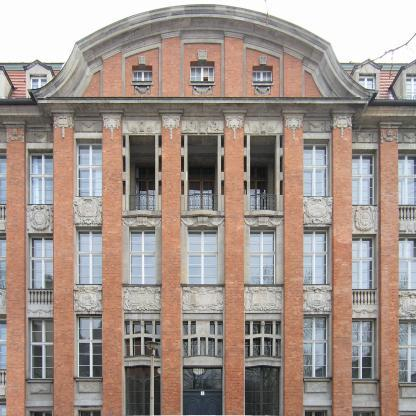Building Outline: (0, 3, 416, 416)
Deco: (181, 194, 225, 218), (182, 287, 224, 311), (122, 194, 162, 218), (244, 194, 284, 218), (244, 287, 282, 311), (123, 287, 161, 311), (73, 197, 103, 225), (303, 197, 333, 225), (74, 284, 103, 312), (303, 286, 332, 312), (352, 205, 379, 232), (26, 205, 53, 231), (398, 290, 416, 318), (192, 86, 212, 95), (254, 86, 271, 95), (134, 85, 150, 94)
Door: (187, 136, 218, 212), (250, 136, 276, 212), (129, 136, 155, 212), (183, 391, 222, 416)
Facade: (1, 102, 415, 415)
Floor: (0, 114, 416, 223), (0, 223, 416, 313)
Floor Slab: (0, 309, 416, 314), (0, 218, 416, 223), (0, 110, 416, 115)
Ground Floor: (0, 314, 416, 416)
Pillar: (329, 110, 356, 416), (99, 109, 124, 416), (377, 121, 403, 416), (158, 109, 183, 415), (222, 109, 247, 415), (282, 110, 307, 416), (51, 110, 75, 416), (2, 121, 25, 416)
Roof: (1, 4, 416, 102)
Sill: (73, 377, 103, 382), (303, 377, 333, 382), (352, 379, 380, 384), (189, 81, 216, 86), (25, 379, 54, 383), (252, 81, 274, 86), (131, 81, 154, 85), (399, 383, 416, 387)
Top Floor: (0, 63, 416, 115)
Window: (124, 365, 161, 416), (245, 365, 281, 416), (187, 227, 218, 284), (76, 314, 102, 377), (304, 314, 330, 377), (303, 226, 330, 284), (303, 139, 330, 196), (28, 318, 53, 379), (352, 318, 377, 379), (76, 139, 102, 197), (129, 226, 155, 284), (76, 227, 102, 284), (250, 227, 276, 284), (28, 148, 53, 204), (28, 234, 53, 289), (352, 234, 377, 289), (352, 149, 377, 204), (399, 320, 416, 383), (398, 149, 416, 205), (399, 234, 416, 289), (183, 367, 222, 390), (191, 61, 215, 81), (359, 73, 376, 100), (29, 74, 47, 98), (132, 65, 152, 81), (253, 66, 273, 81), (408, 73, 416, 100), (253, 337, 262, 356), (264, 337, 273, 356), (132, 337, 141, 356), (144, 337, 153, 356), (275, 338, 282, 357), (208, 337, 215, 356), (264, 321, 273, 335), (253, 321, 262, 335), (144, 321, 153, 334), (217, 338, 223, 357), (200, 337, 206, 356), (191, 337, 197, 356), (182, 338, 188, 357), (155, 338, 161, 357), (353, 411, 375, 416), (124, 338, 130, 356), (133, 321, 141, 334), (245, 338, 250, 357), (275, 321, 281, 336), (182, 321, 188, 336), (217, 321, 223, 336), (124, 320, 130, 335), (209, 321, 215, 335), (245, 321, 250, 336), (191, 321, 196, 335), (155, 321, 160, 335)
